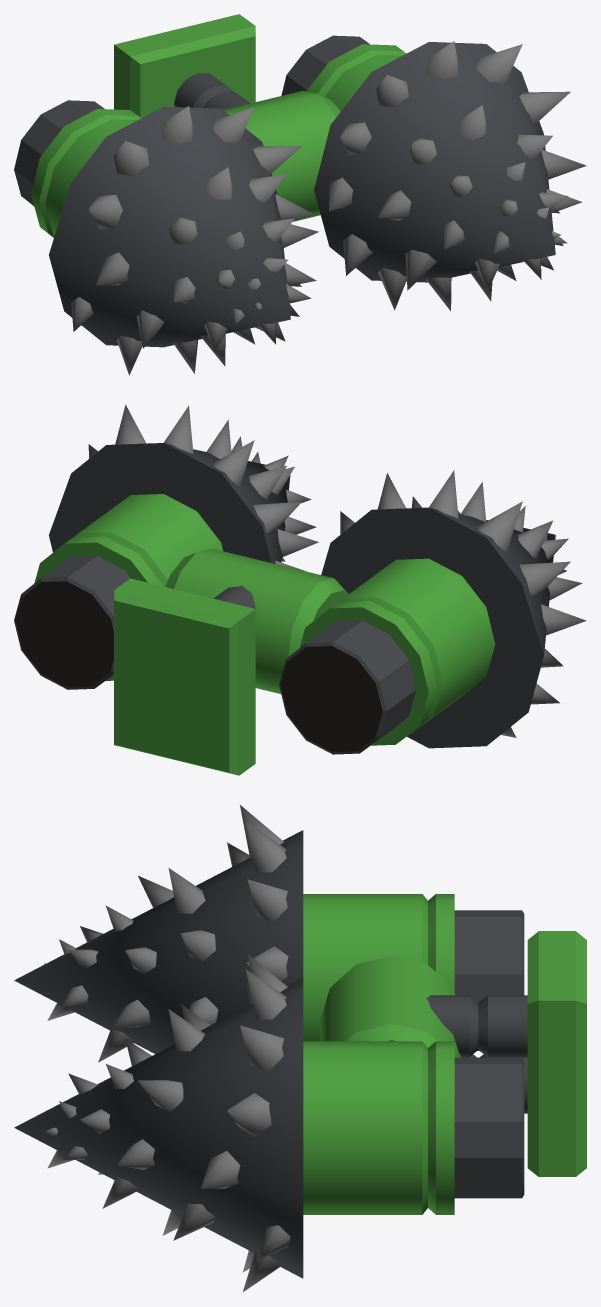
File: Awl_3_LP.fbx
3 views of the same model, one above another, from view 1: azimuth 30°, elevation 25°; view 2: azimuth 150°, elevation 25°; view 3: azimuth 270°, elevation 25° (orthographic). The views are drawn at different scales.
Visible parts, largest first — view 1: Awl_3_R, Awl_3_L, Awl_3_Base; view 2: Awl_3_Base, Awl_3_R, Awl_3_L; view 3: Awl_3_Base, Awl_3_L, Awl_3_R.
Boxes of the visible parts, <box> form: Awl_3_R: <box>14,100,318,375</box>; Awl_3_L: <box>281,35,586,310</box>; Awl_3_Base: <box>31,14,406,237</box>; Awl_3_Base: <box>34,494,495,775</box>; Awl_3_R: <box>279,470,586,754</box>; Awl_3_L: <box>14,404,318,689</box>; Awl_3_Base: <box>303,894,586,1214</box>; Awl_3_L: <box>14,953,524,1291</box>; Awl_3_R: <box>14,805,524,1062</box>.
Bounding box in the file's own units: 148 × 76.66 × 130.
